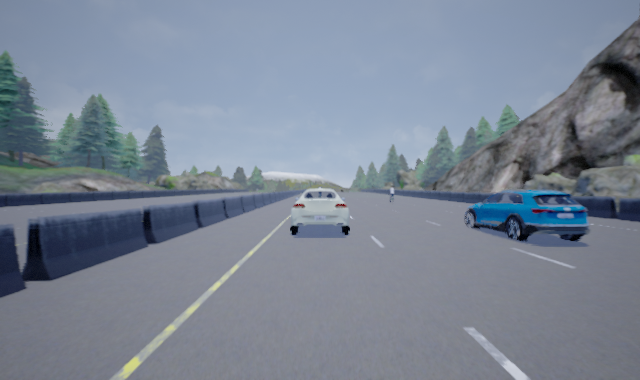bike: (389, 185, 396, 203)
vehicle: (463, 188, 588, 242), (289, 187, 349, 236)
